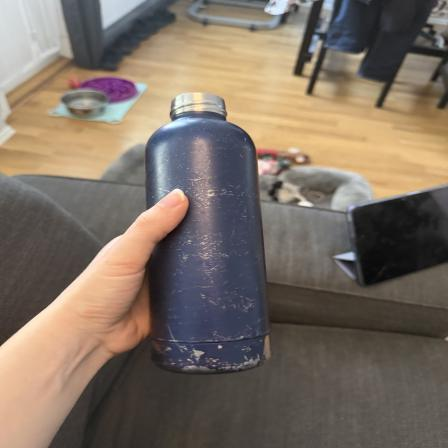blue_bottle: (145, 91, 276, 374)
